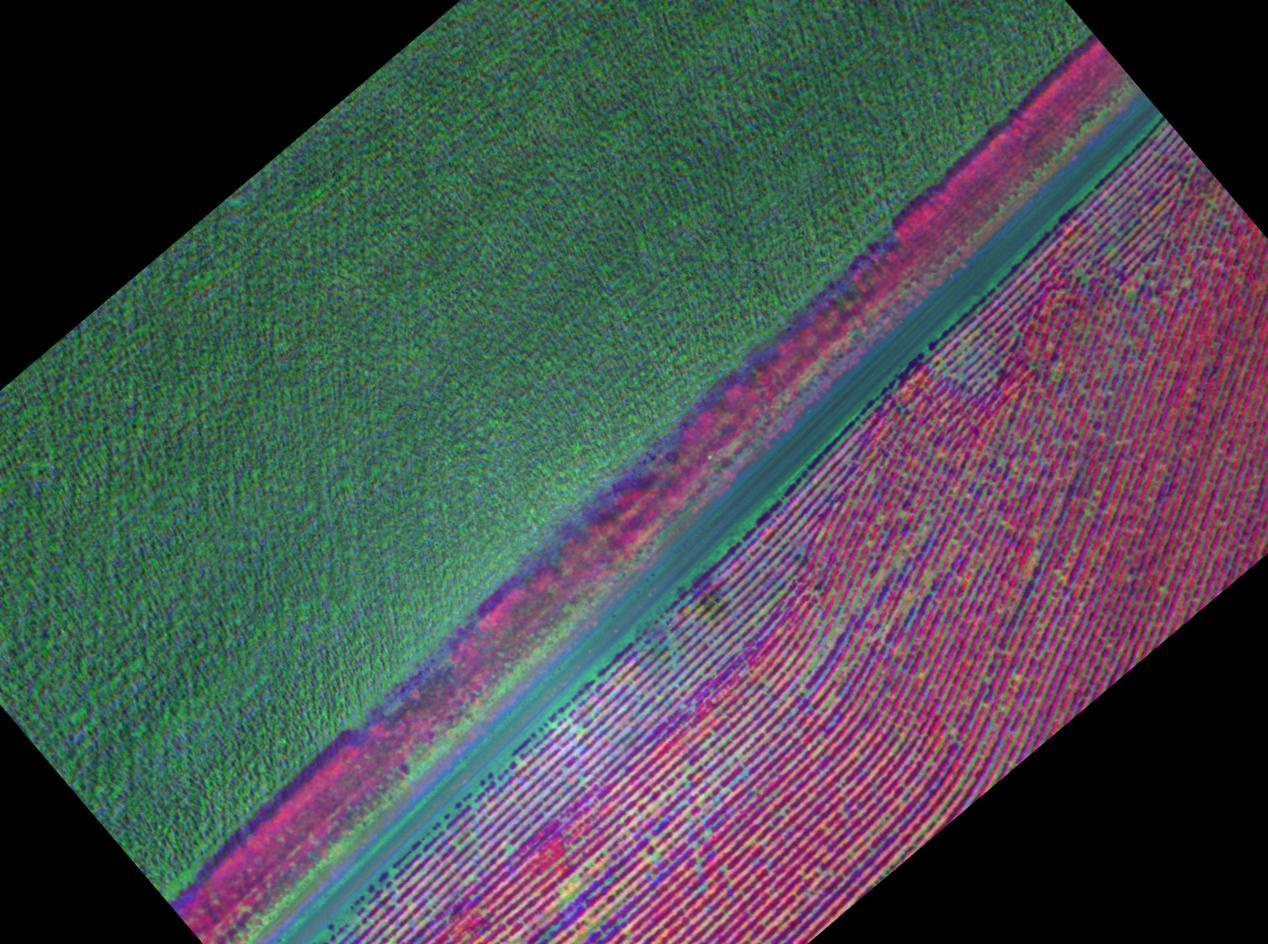dc: (681, 558, 791, 651), (635, 783, 730, 884), (517, 852, 614, 944)
